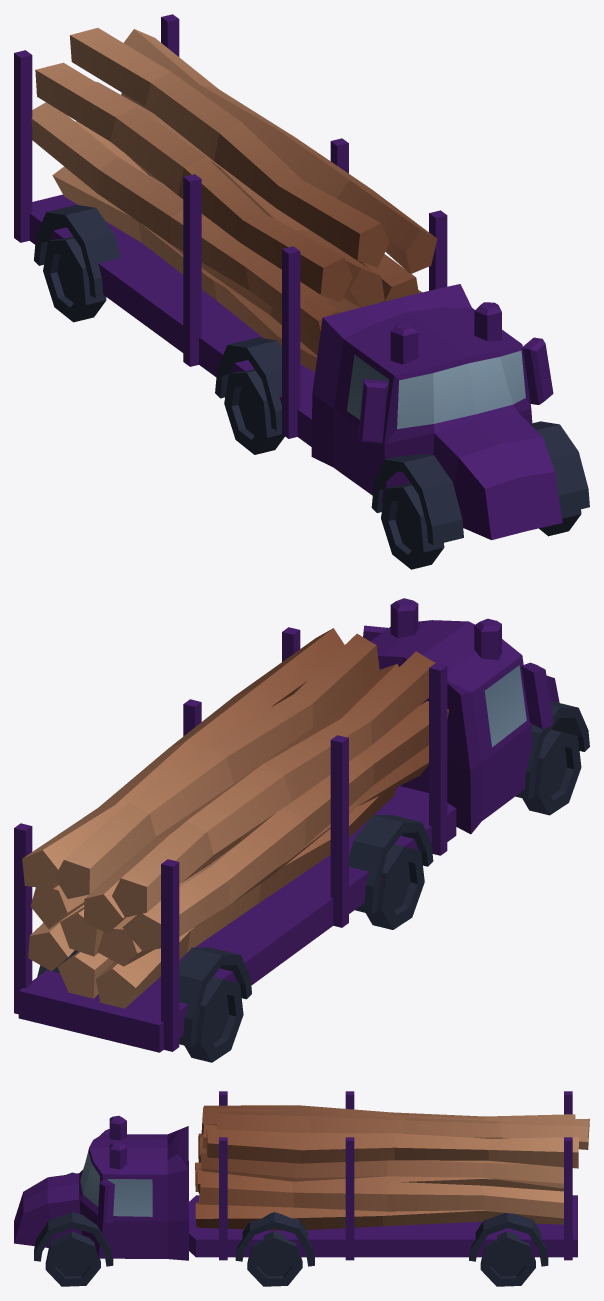
The model's file is WOODTRUCK.fbx.
3 views of the same model, one above another, from view 1: azimuth 30°, elevation 25°; view 2: azimuth 150°, elevation 25°; view 3: azimuth 270°, elevation 25° (orthographic). The views are drawn at different scales.
Visible parts, largest first — view 1: wood-truck; view 2: wood-truck; view 3: wood-truck.
Boxes of the visible parts, x1,y1,x2,y2 form: wood-truck: (14, 14, 589, 569); wood-truck: (14, 598, 589, 1062); wood-truck: (14, 1091, 589, 1286).
Size of the model in its own units: 274 by 320 by 1099.
